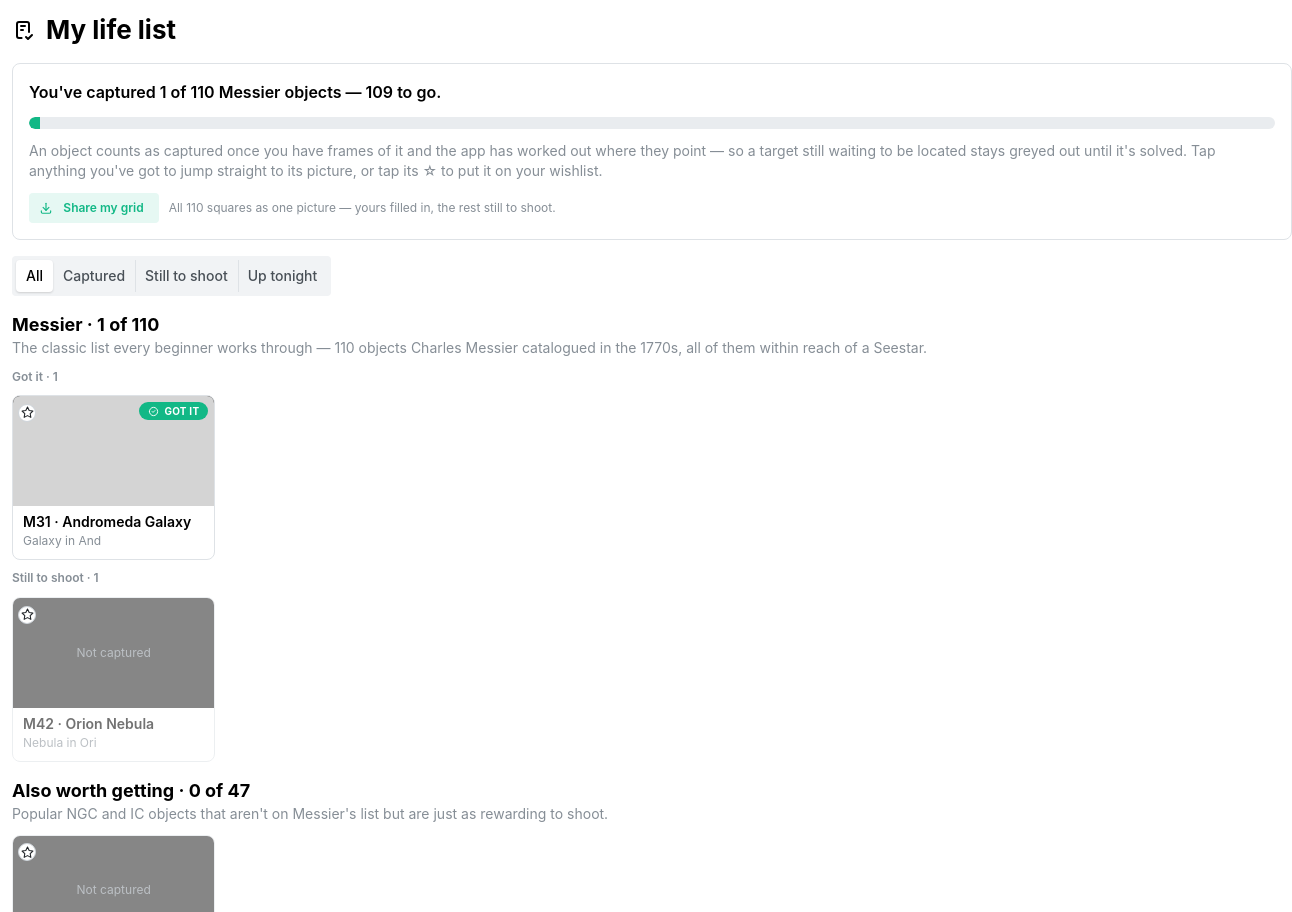
LifeListView › narrows the list to what is actually shootable tonight
Step 1. Click the text "Up tonight" → (283, 276), box [248,268,317,284]
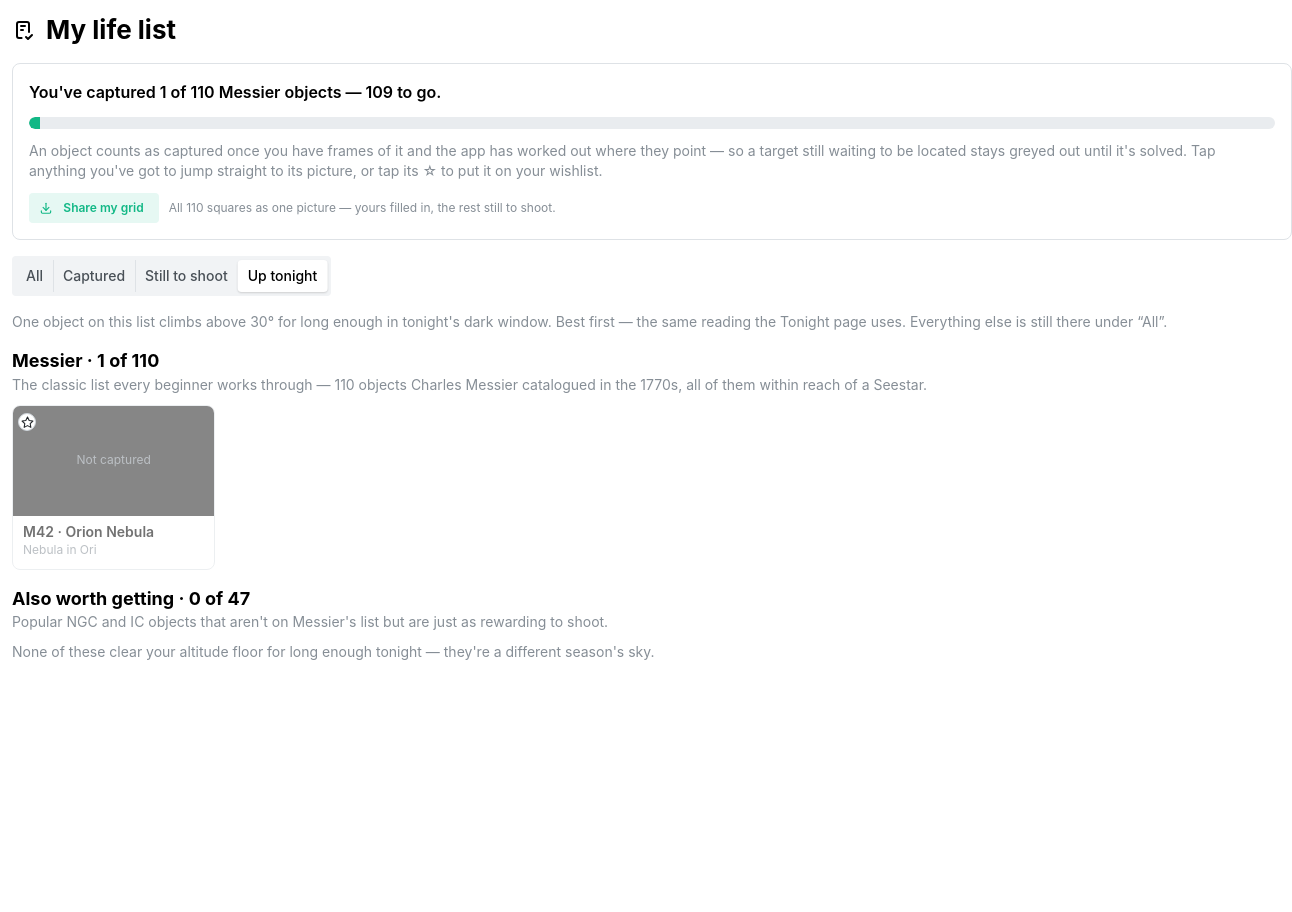
Expected: the text "M42 · Orion Nebula" is shown, [23,523,154,540]
Now the link "M31 · Andromeda Galaxy" is gone
Now the text "One object on this list climbs above 30°" is shown, box [12,312,1291,332]
